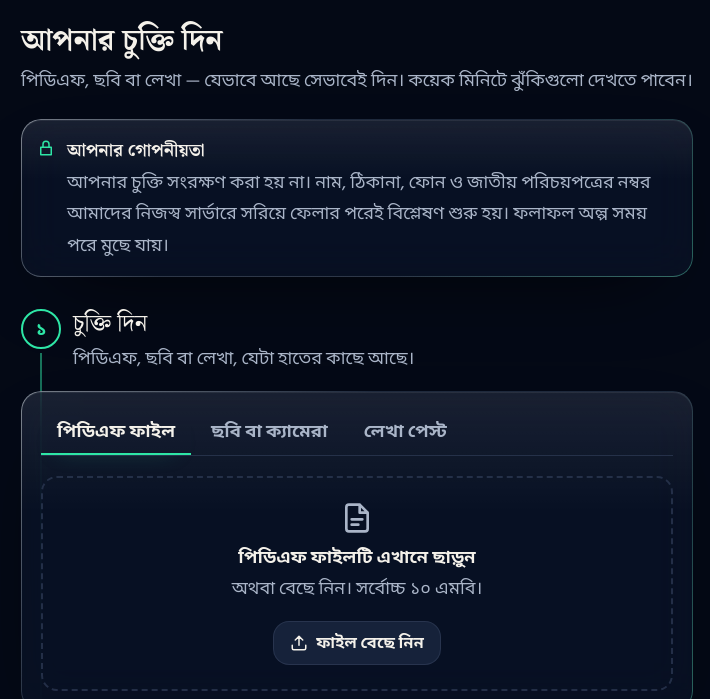
Test: UploadPage › FR-69 refuses a text that is too short and says how many characters are needed
Step 1. Click the tab "লেখা পেস্ট" → (405, 432), box [348, 410, 463, 454]
(page scrolled)
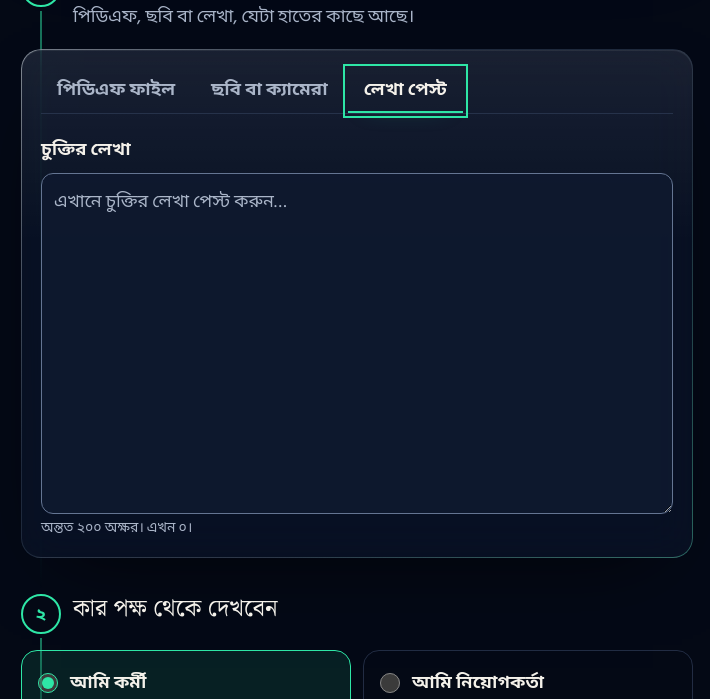
Step 2. Type "খুব ছোট লেখা" into the text box labelled "চুক্তির লেখা" → (357, 344), box [41, 173, 673, 514]
(page scrolled)
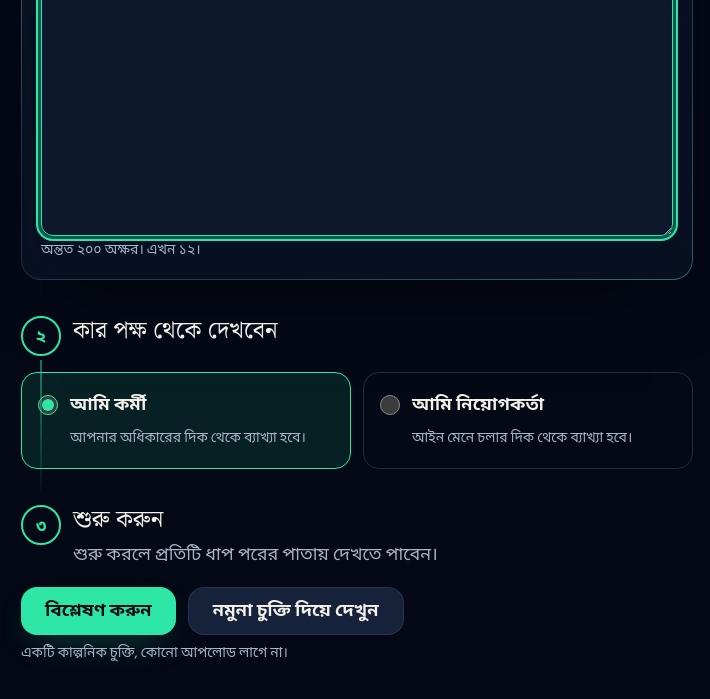
Step 3. Click the button "বিশ্লেষণ করুন" → (98, 610), box [21, 586, 176, 634]
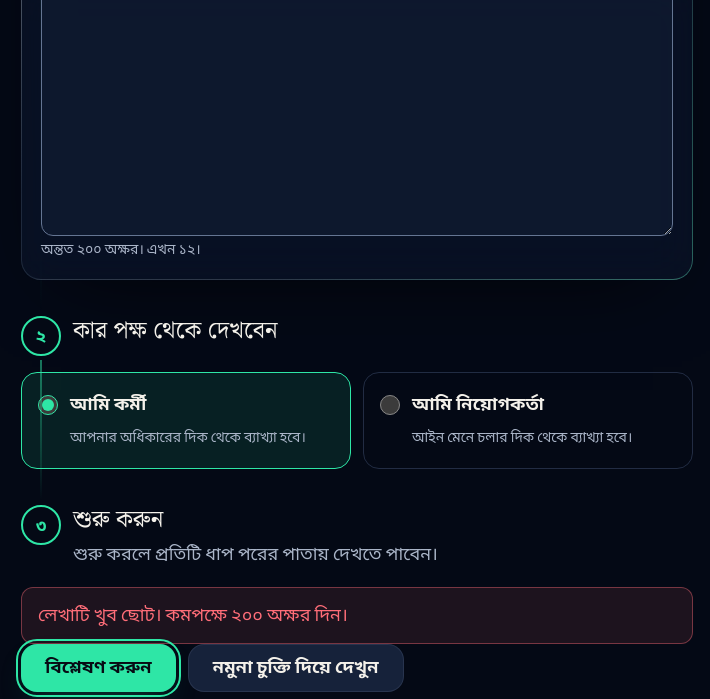
Result: the message shows "কমপক্ষে ২০০ অক্ষর" at [38, 600, 348, 630]
